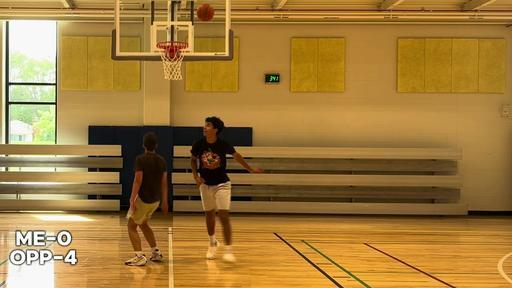ball: (196, 3, 214, 21)
human: (191, 117, 263, 262), (124, 131, 168, 266)
rim: (157, 41, 188, 81)
